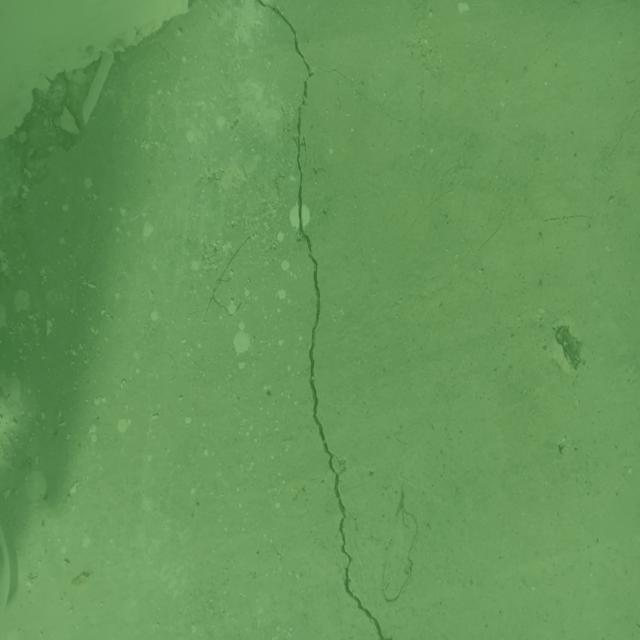crack: (256, 0, 412, 640), (440, 108, 640, 255)
